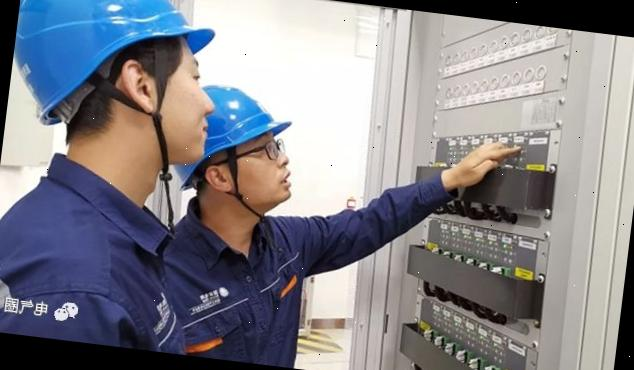helmet: (5, 0, 223, 147), (173, 78, 304, 204)
wear: (0, 188, 190, 353), (165, 209, 313, 369)
